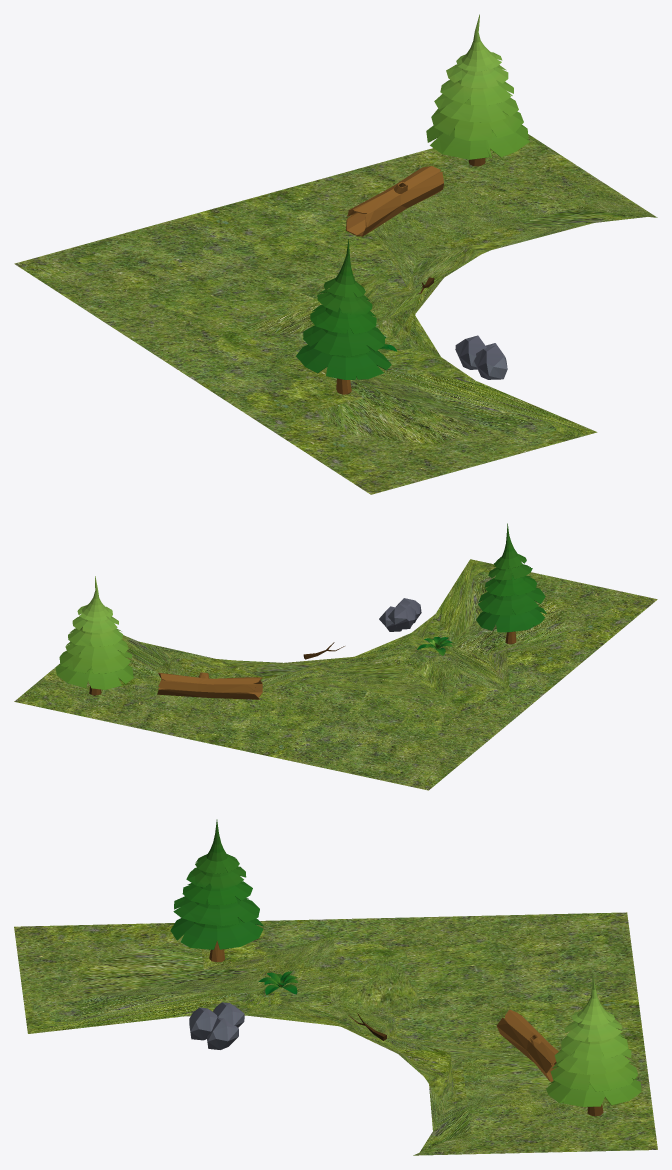
File: arboles.obj
3 views of the same model, one above another, from view 1: azimuth 30°, elevation 25°; view 2: azimuth 150°, elevation 25°; view 3: azimuth 270°, elevation 25° (orthographic). The views are drawn at different scales.
Parts seen in each view (by area): view 1: polySurface157; view 2: polySurface157; view 3: polySurface157.
Boxes of the visible parts, bbox=[...] form: polySurface157: bbox=[14, 14, 657, 494]; polySurface157: bbox=[14, 523, 657, 790]; polySurface157: bbox=[14, 819, 657, 1155].
Size of the model in its own units: 13.83 by 4.26 by 15.48.
